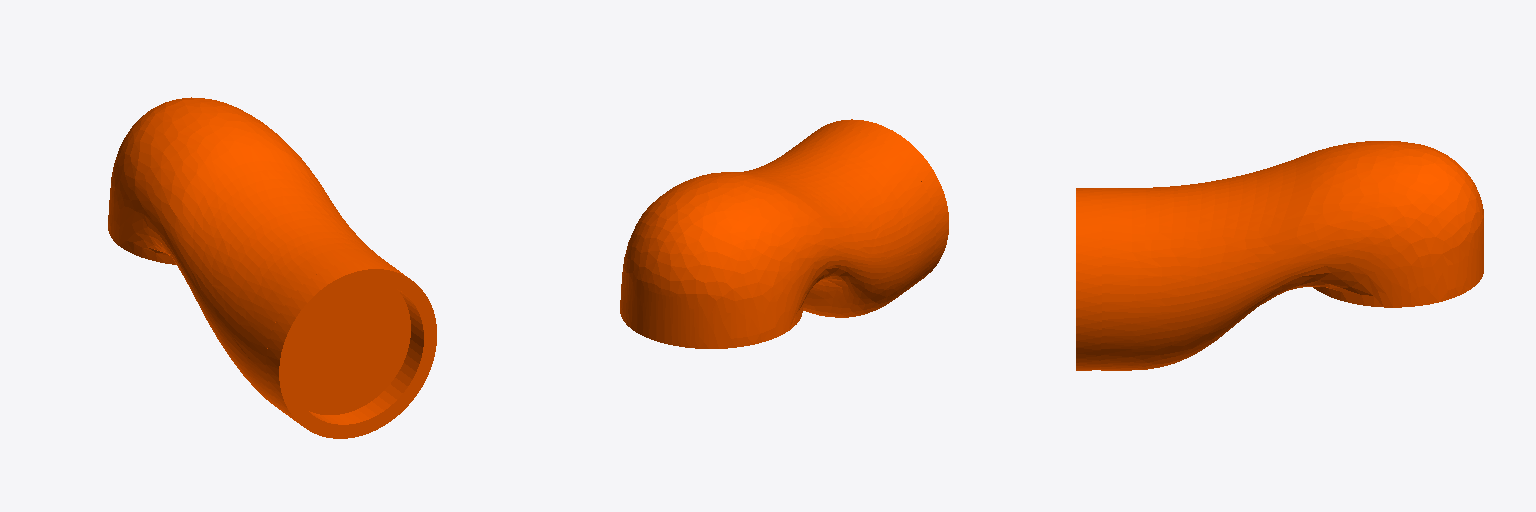
The picture shows the model from 3 angles: view 1: azimuth 30°, elevation 25°; view 2: azimuth 150°, elevation 25°; view 3: azimuth 270°, elevation 25°; orthographic projection.
Parts seen in each view (by area): view 1: link2_object.003; view 2: link2_object.003; view 3: link2_object.003.
Boxes of the visible parts, x1=… form: link2_object.003: x1=108, y1=97, x2=436, y2=438; link2_object.003: x1=620, y1=119, x2=948, y2=348; link2_object.003: x1=1076, y1=141, x2=1483, y2=370.
Bounding box in the file's own units: 0.12 × 0.1537 × 0.2686.